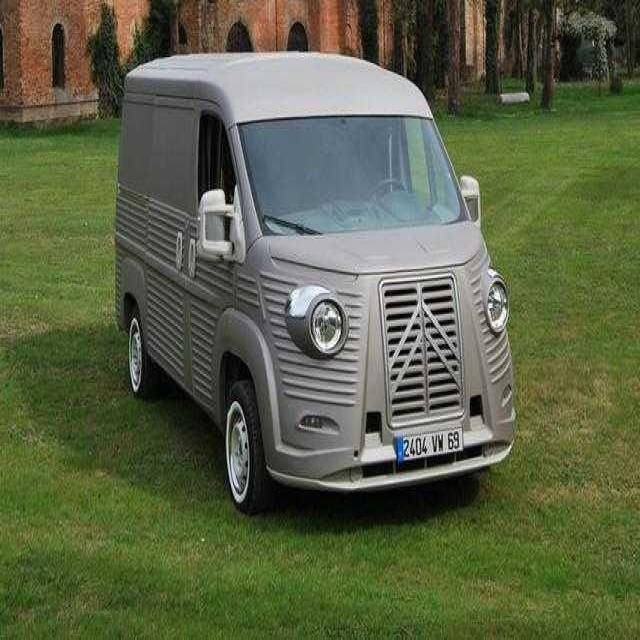Van: (109, 40, 520, 517)
